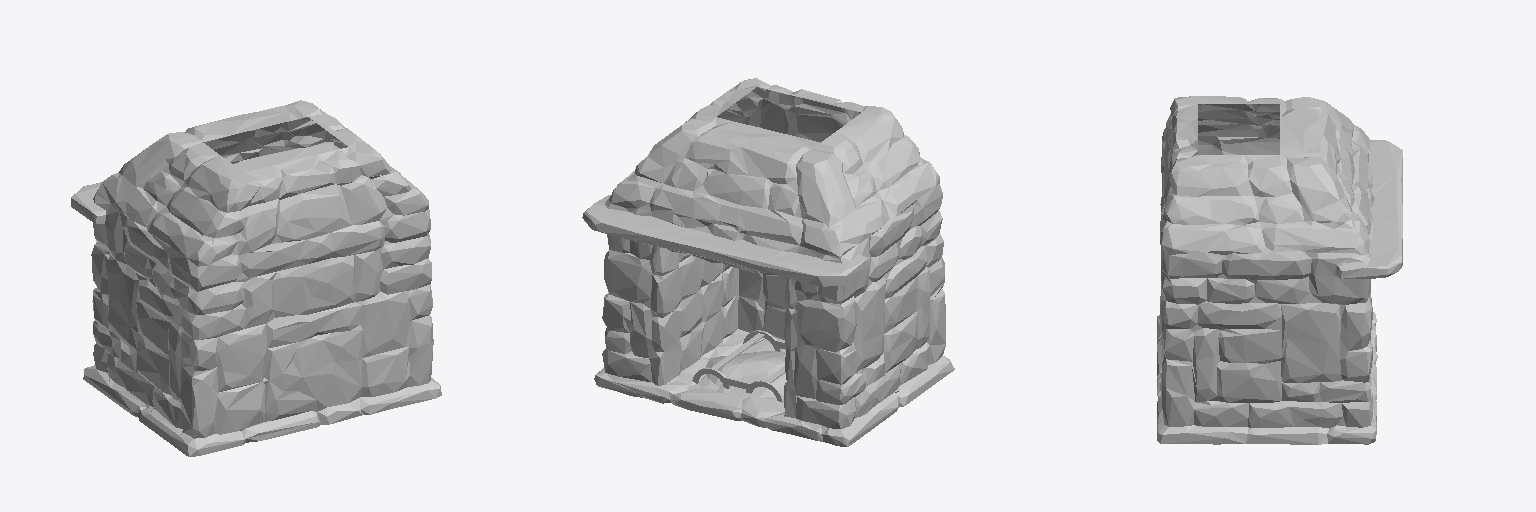
Rendered from fireplace.obj.
3 views of the same model, side by side, from view 1: azimuth 30°, elevation 25°; view 2: azimuth 150°, elevation 25°; view 3: azimuth 270°, elevation 25° (orthographic).
Visible parts, largest first — view 1: trn_Fireplace; view 2: trn_Fireplace; view 3: trn_Fireplace.
Part boxes in pixels (x1,y1,x2,y2): trn_Fireplace: (71, 100, 441, 456); trn_Fireplace: (582, 78, 954, 446); trn_Fireplace: (1157, 96, 1402, 444).
Size of the model in its own units: 1.1 by 1.01 by 0.89.